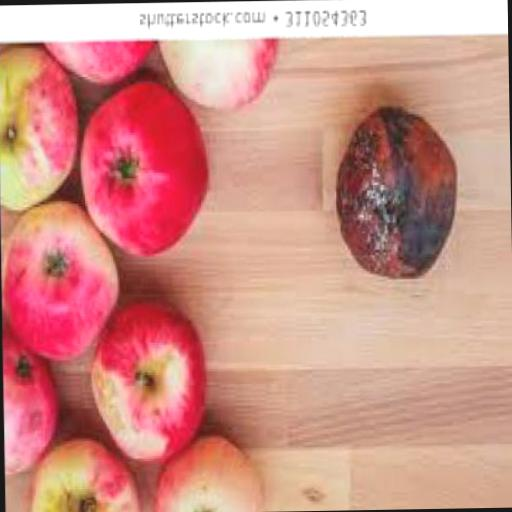biodegradable: (76, 71, 207, 259), (332, 104, 456, 282), (86, 303, 204, 467), (0, 200, 118, 362), (0, 43, 74, 215), (152, 40, 280, 115), (147, 433, 261, 512), (22, 441, 139, 512), (2, 331, 58, 476), (40, 42, 154, 90)
